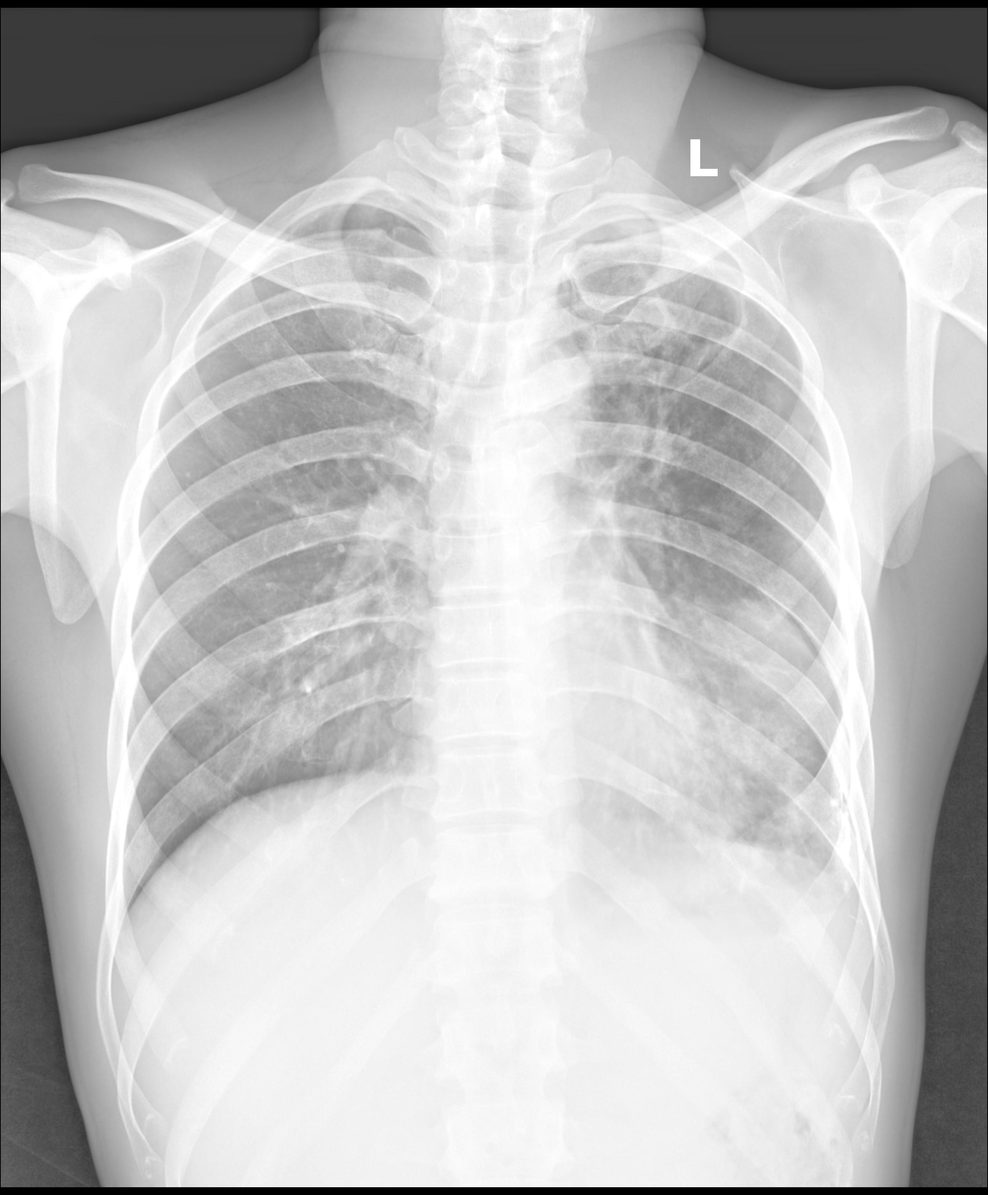Pleural thickening: (293, 205, 405, 228)
